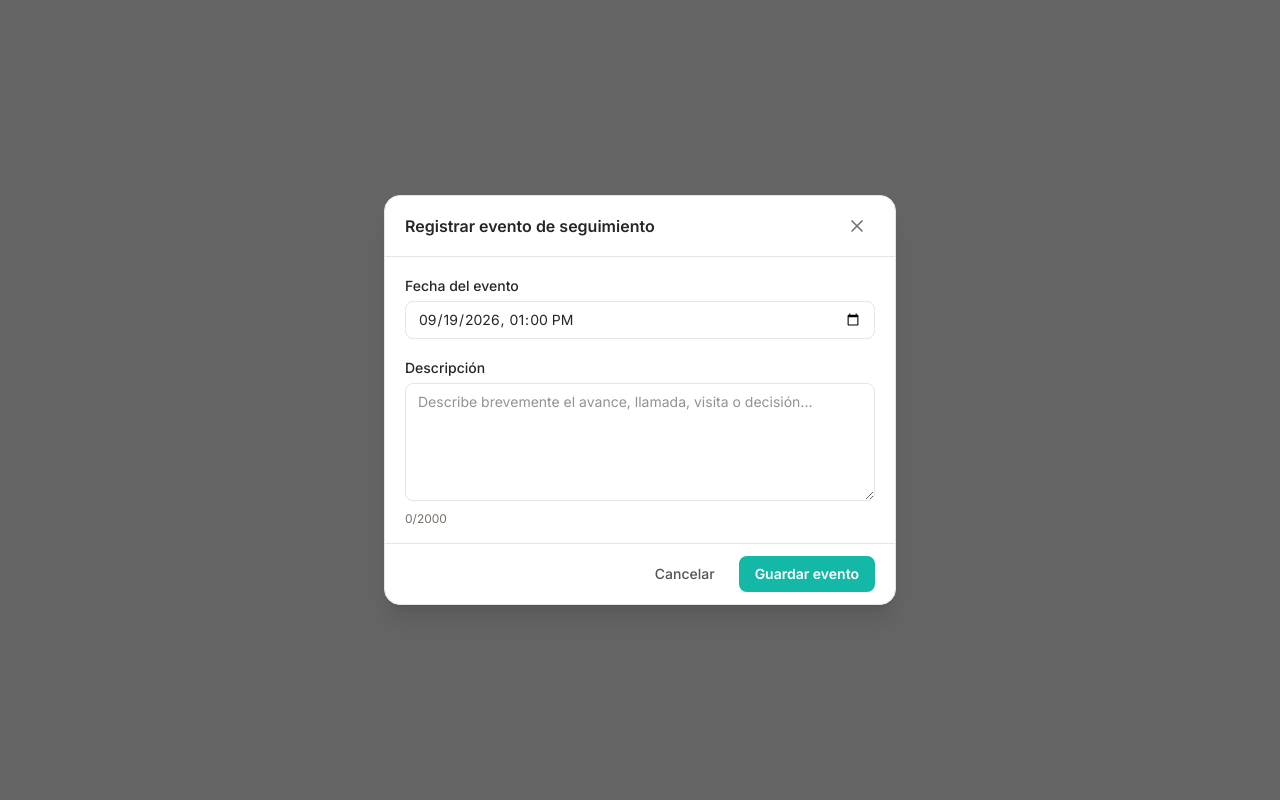
Scenario: AdoptionEventCreateModal › shows a generic error when the submission fails without field details
Type "Evento válido." into the text box with test id "event-description-input".
click(640, 442); type("Evento válido.")  # box [405,383,875,501]
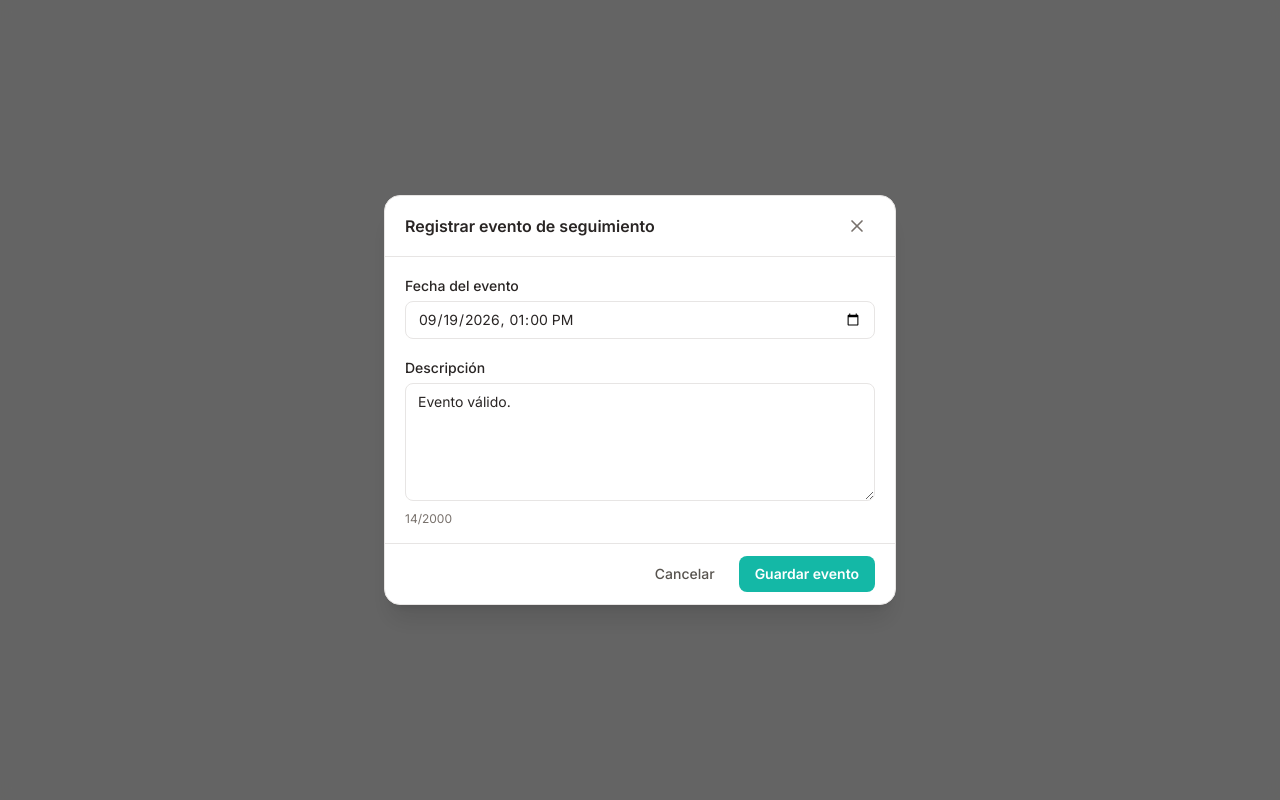
Click the button with test id "event-submit".
click(807, 574)  # box [739,556,875,592]
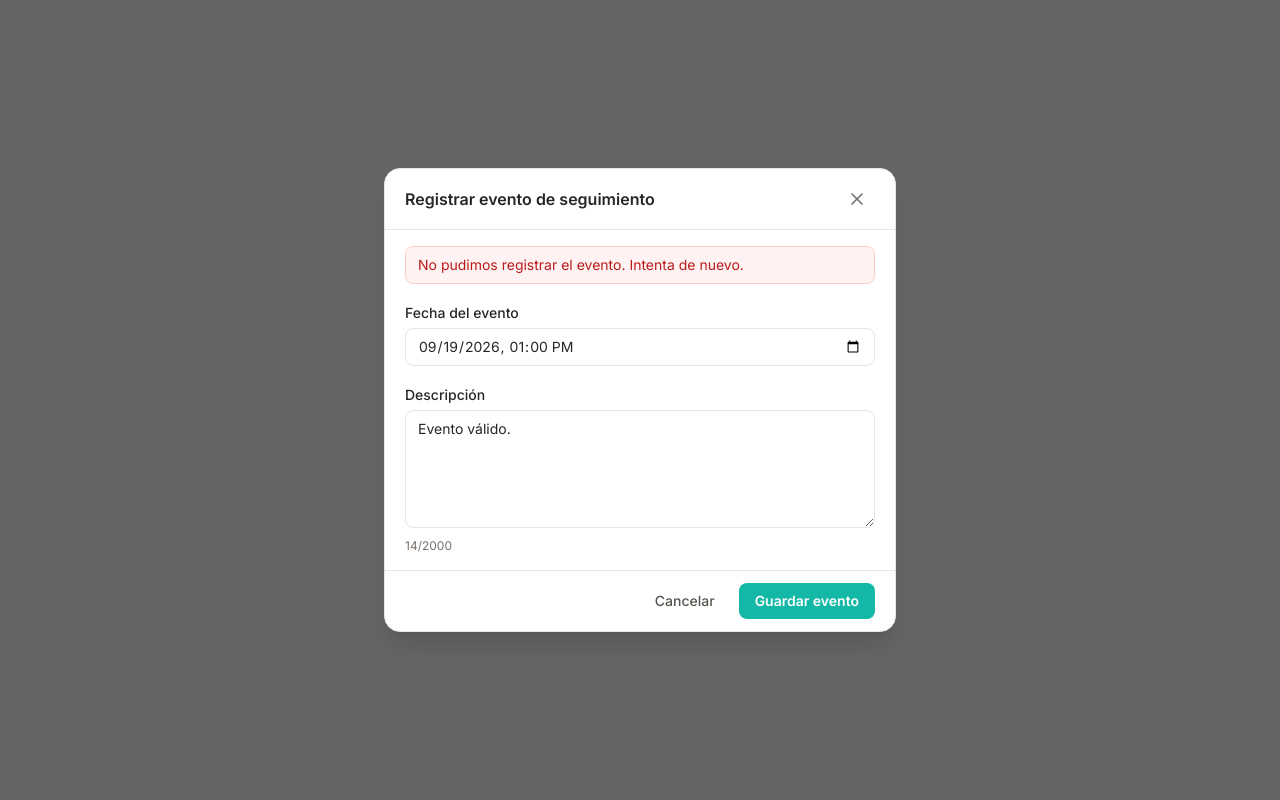
expect the text "No pudimos registrar el evento. Intenta de nuevo." is shown: met, box [405,246,875,284]
